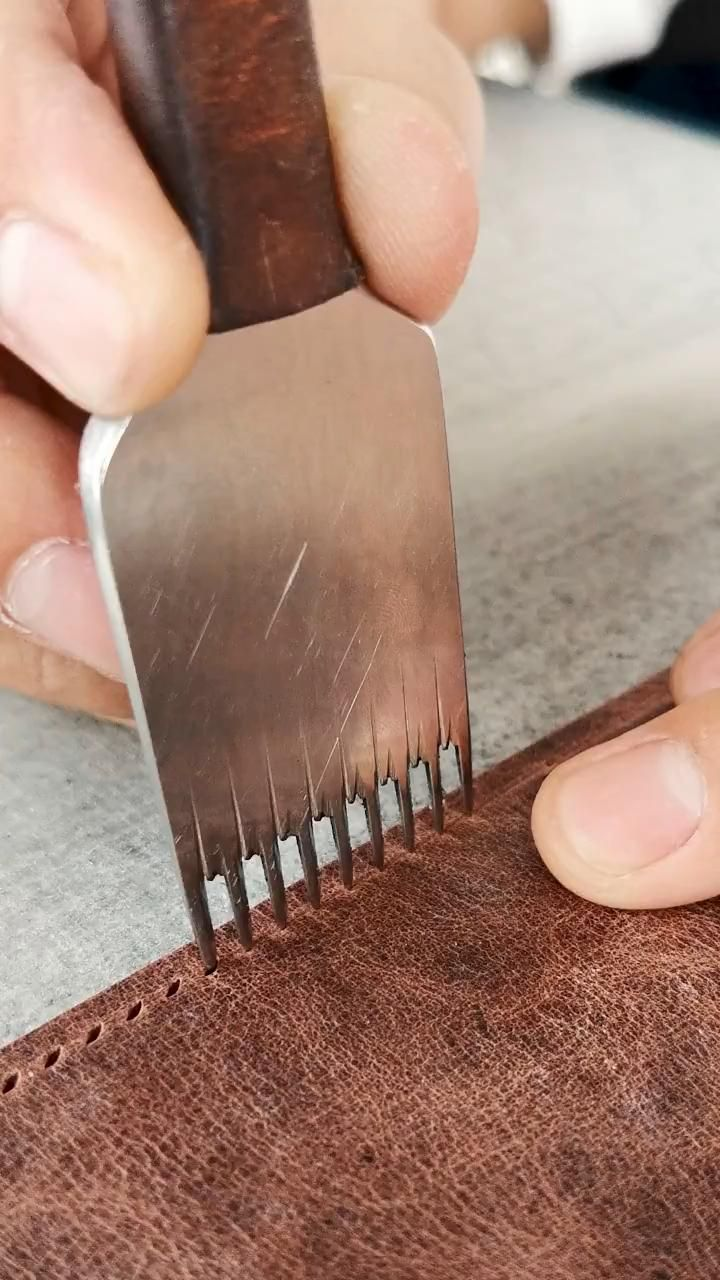cuero: (1, 659, 720, 1280)
